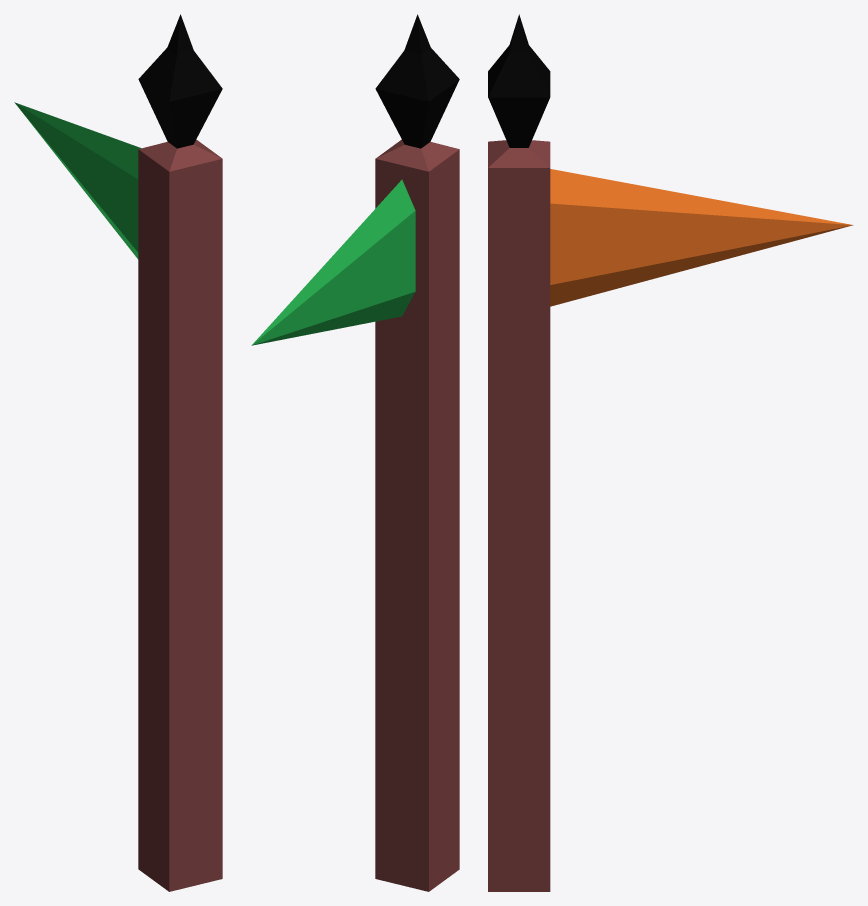
Rendered from target_flag.gltf.
3 views of the same model, side by side, from view 1: azimuth 30°, elevation 25°; view 2: azimuth 150°, elevation 25°; view 3: azimuth 270°, elevation 25° (orthographic).
Parts seen in each view (by area): view 1: Cube; view 2: Cube; view 3: Cube.
Part boxes in pixels (x1,y1,x2,y2): Cube: (14,14,222,891); Cube: (251,14,459,891); Cube: (488,14,853,891).
Bounding box in the file's own units: 0.2 × 3.07 × 1.18.
Materials: 1 (1 with a texture image).
